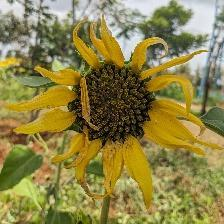sunflower: (6, 12, 224, 210)
